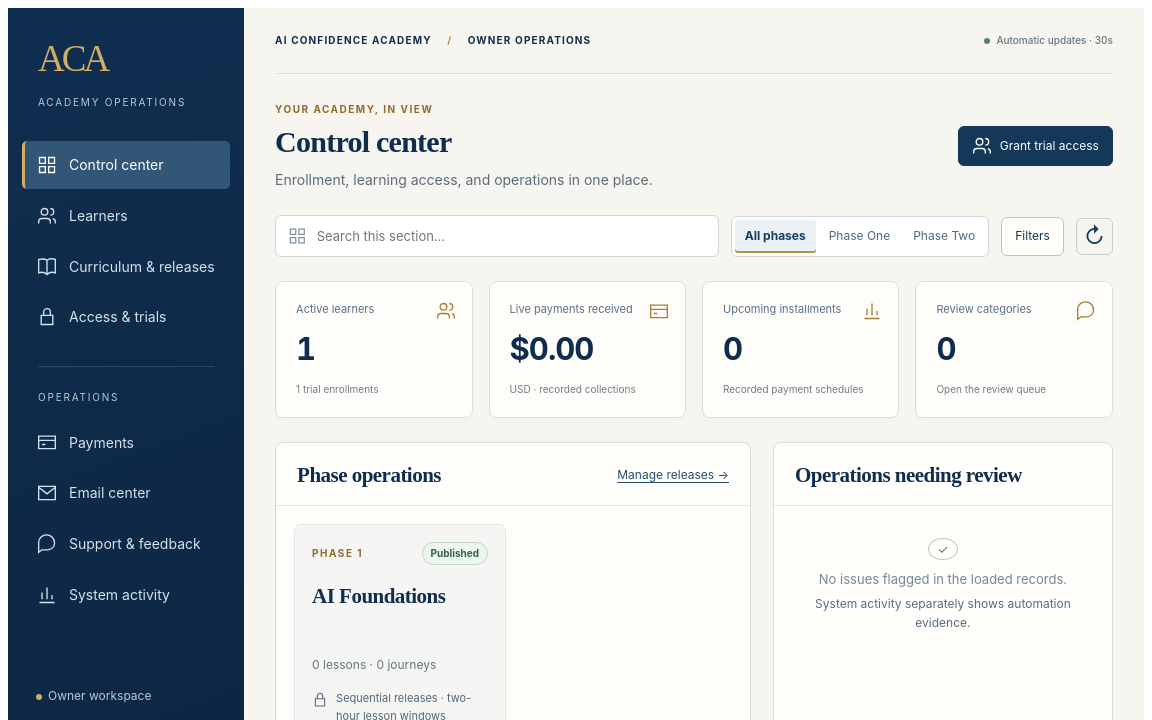
Scenario: keeps a failed saved invitation available for email-only retry
The image size is (1152, 720).
Expected: the heading "Phase operations" is shown, top-left (297, 462), bottom-right (441, 489)
Click the button "Grant trial access" at (1035, 146), box top-left (958, 126), bottom-right (1113, 166)
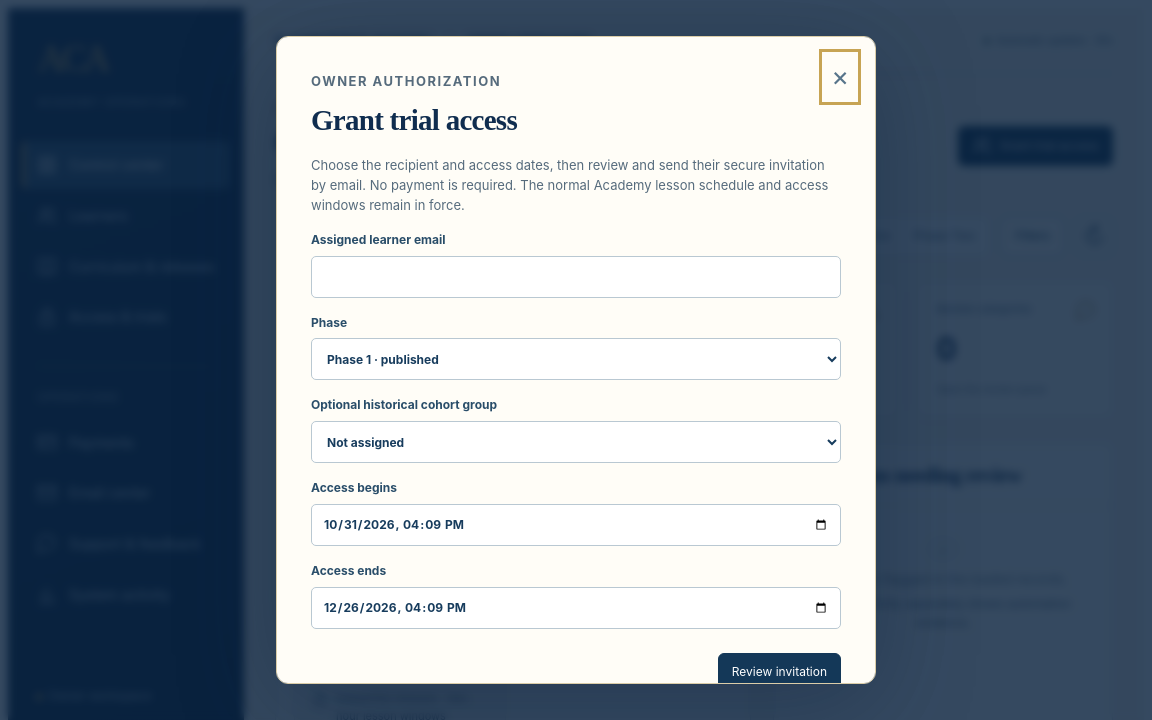
Type "retry@example.com" into the field labelled "Assigned learner email" at (576, 277), box top-left (311, 256), bottom-right (841, 298)
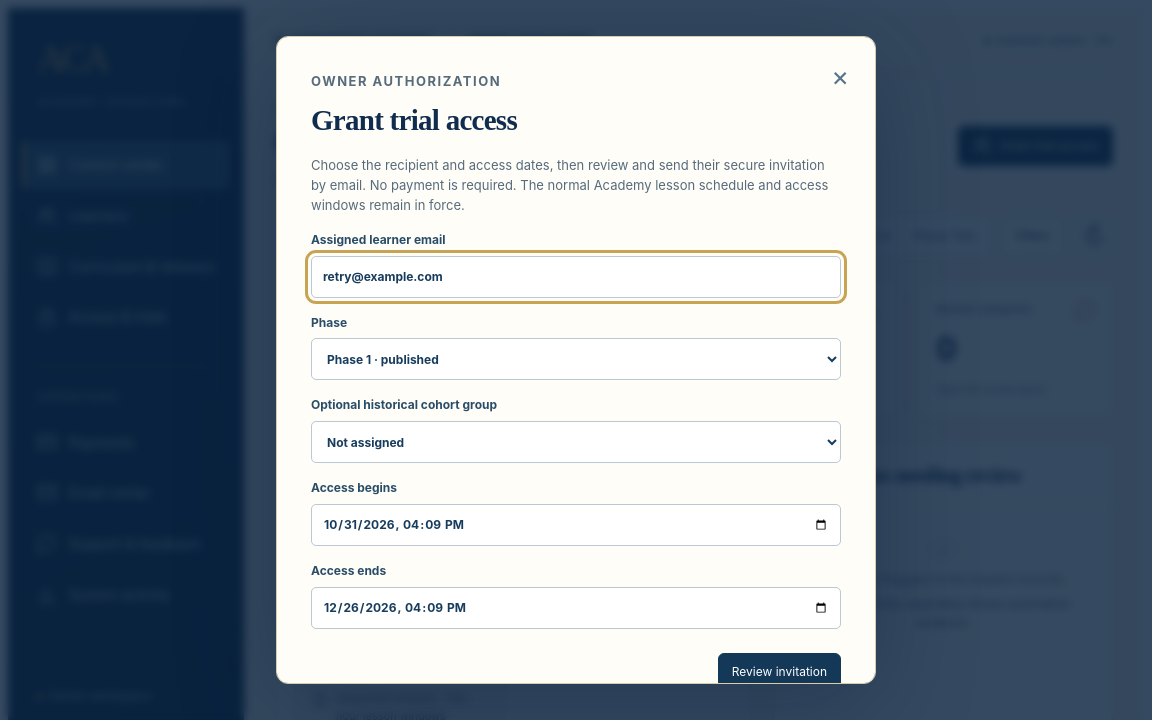
Click the button "Review invitation" at (779, 673), box top-left (718, 653), bottom-right (841, 692)
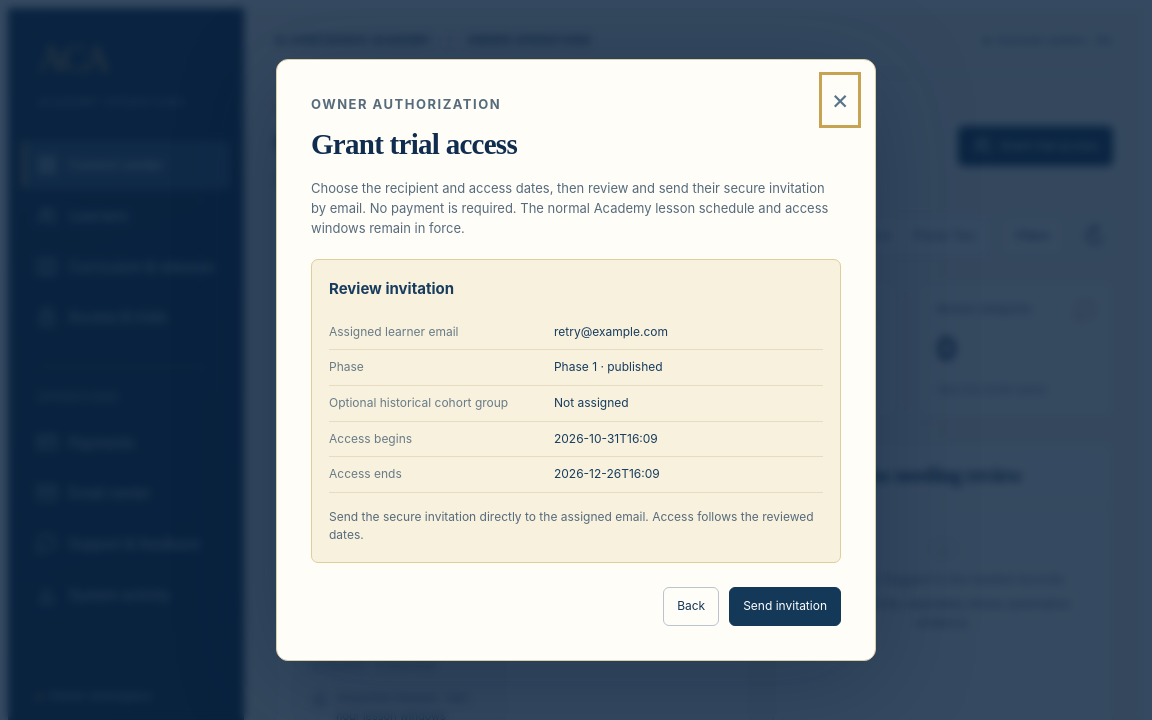
Click the button "Send invitation" at (785, 606), box top-left (729, 587), bottom-right (841, 626)
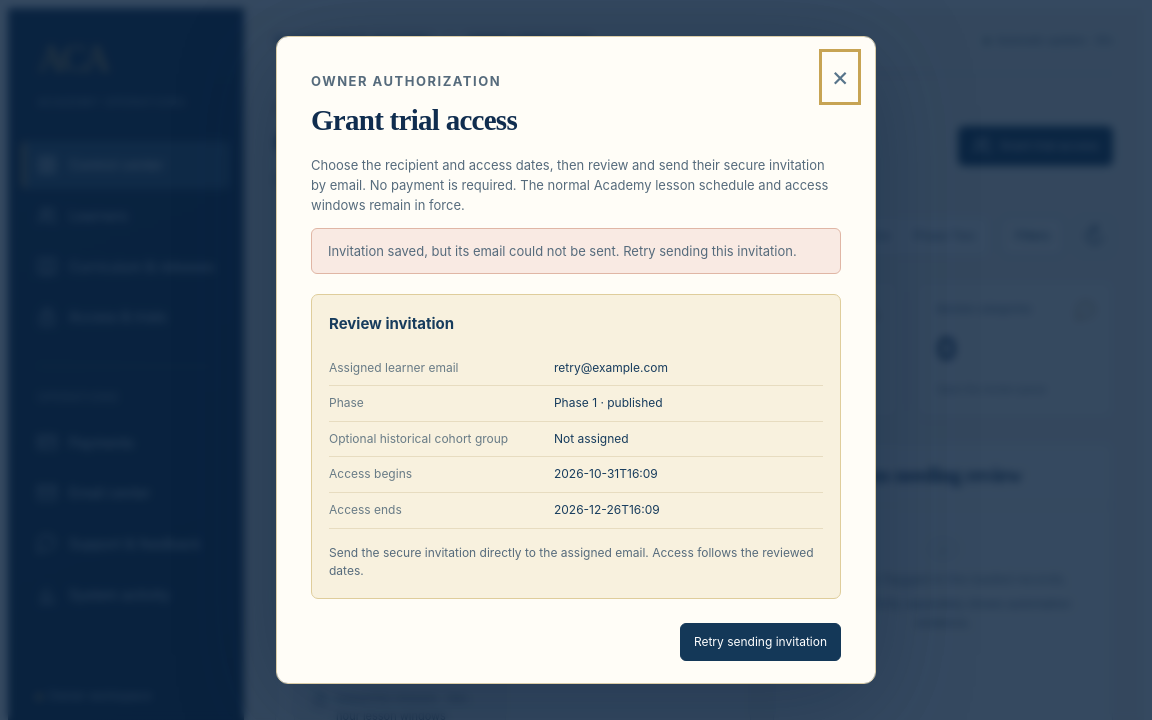
Result: the text "retry@example.com" is shown at top-left (554, 360), bottom-right (668, 375)
Result: the message is shown at top-left (311, 228), bottom-right (841, 274)
Click the button "Retry sending invitation" at (760, 642), box top-left (680, 623), bottom-right (841, 661)
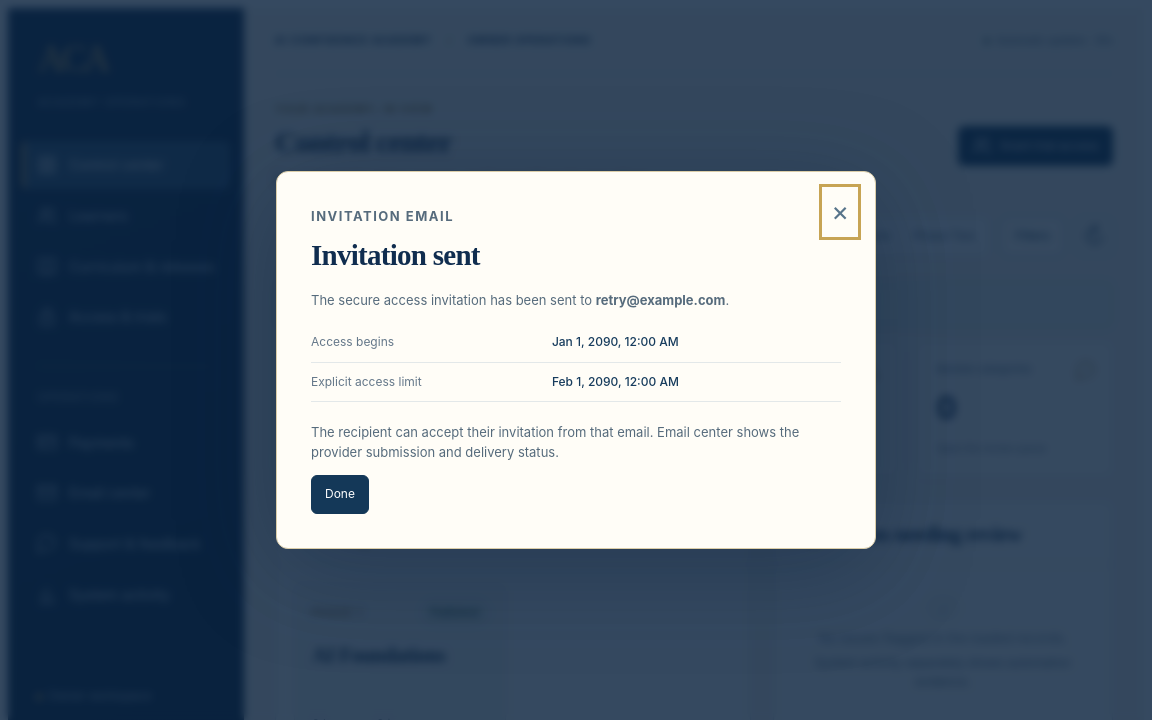
Result: the heading "Invitation sent" is shown at top-left (311, 239), bottom-right (480, 271)
